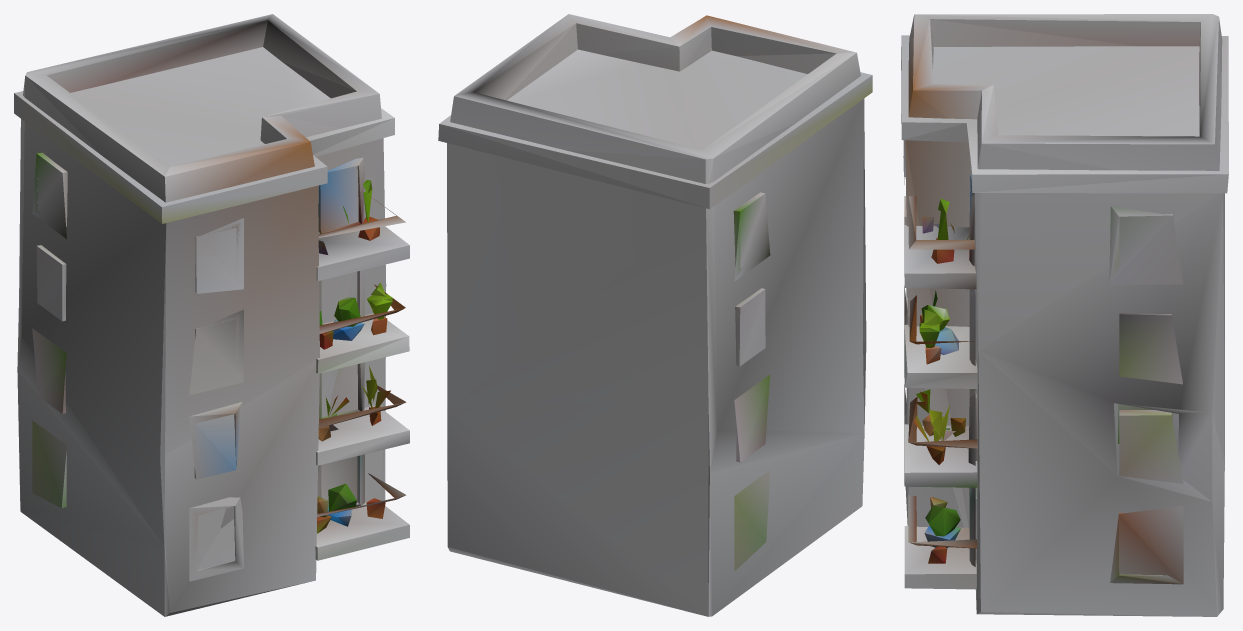
Rendered from apart_lo.glb.
3 renders of one model, left to right at view 1: azimuth 30°, elevation 25°; view 2: azimuth 150°, elevation 25°; view 3: azimuth 270°, elevation 25°, orthographic. The views are drawn at different scales.
Parts seen in each view (by area): view 1: geometry_0; view 2: geometry_0; view 3: geometry_0.
Boxes of the visible parts, bbox=[...] form: geometry_0: bbox=[14, 14, 409, 616]; geometry_0: bbox=[438, 14, 872, 616]; geometry_0: bbox=[901, 14, 1228, 616].
Size of the model in its own units: 0.6001 by 0.9497 by 0.5953.
